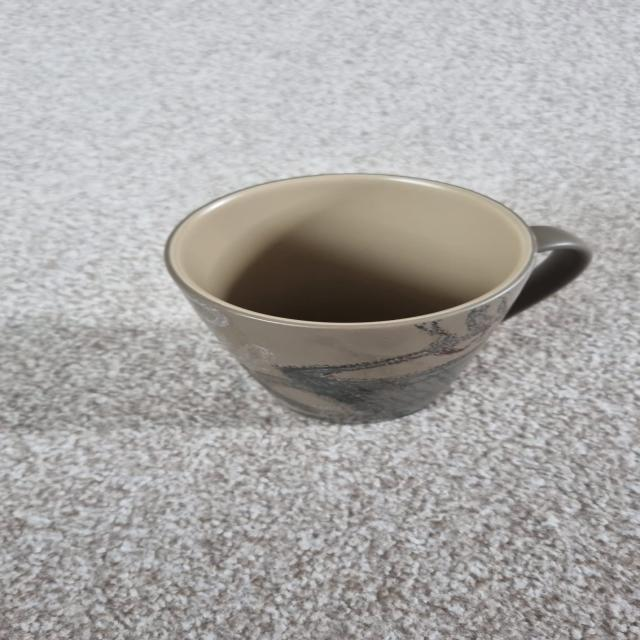Cup: (164, 174, 589, 424)
